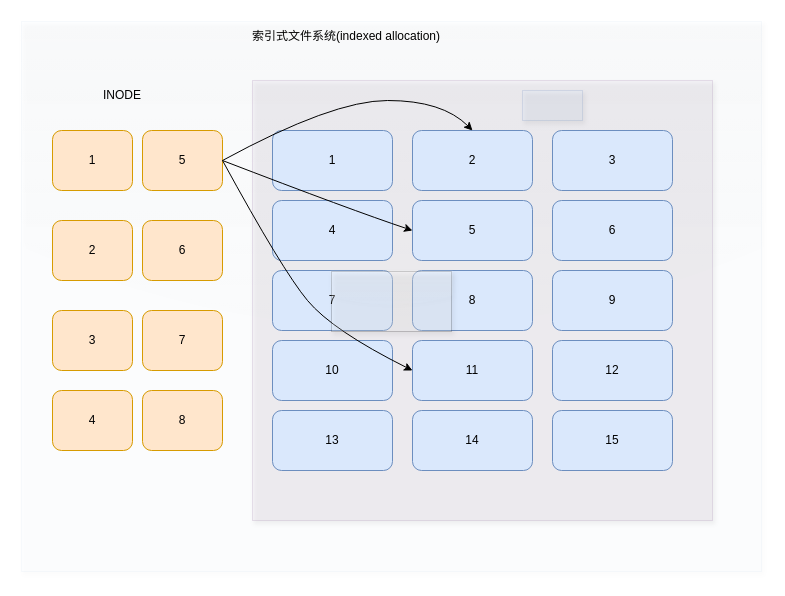
Some shapes in this 785 by 596 pixel diagram are drawn without their labels. The shapes that lost their labels are listed below. From the top down, each one's centre as x and y in pixels, then its label:
point 553,107: BLOCK
point 392,302: Text
